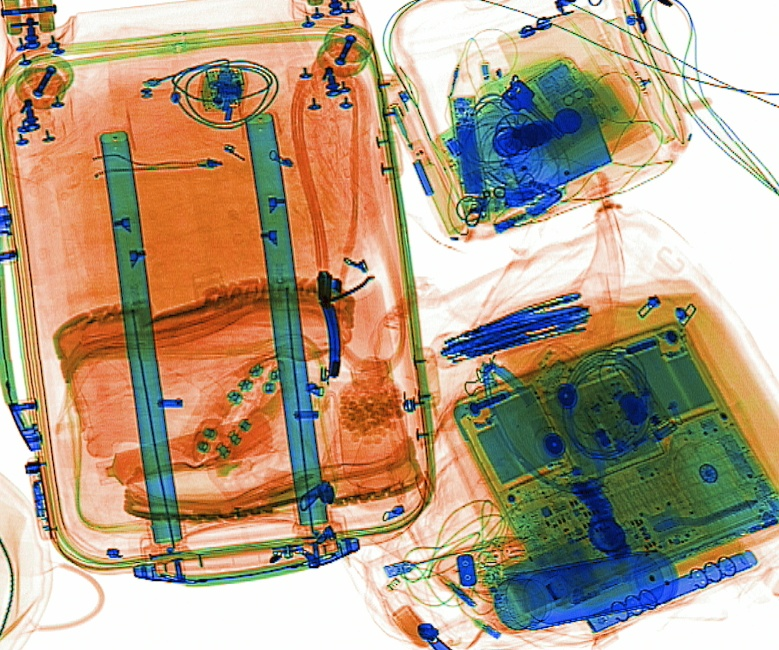powerbank: (446, 91, 491, 221)
